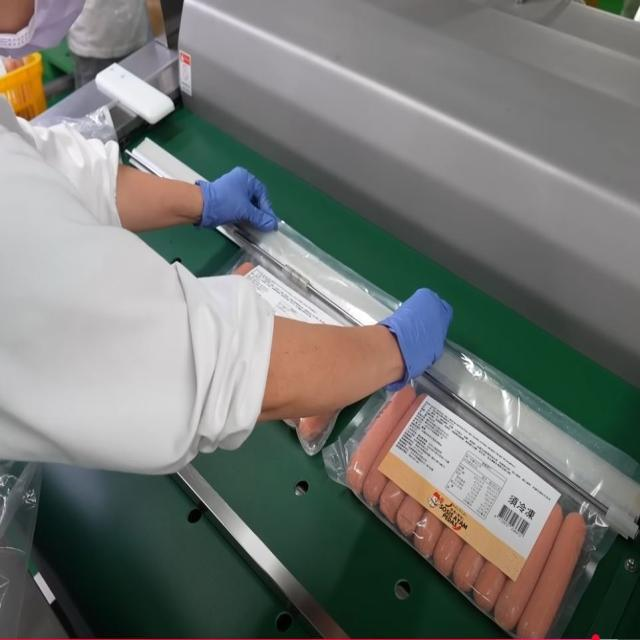gloved_hand: (376, 280, 459, 387), (188, 160, 278, 239)
